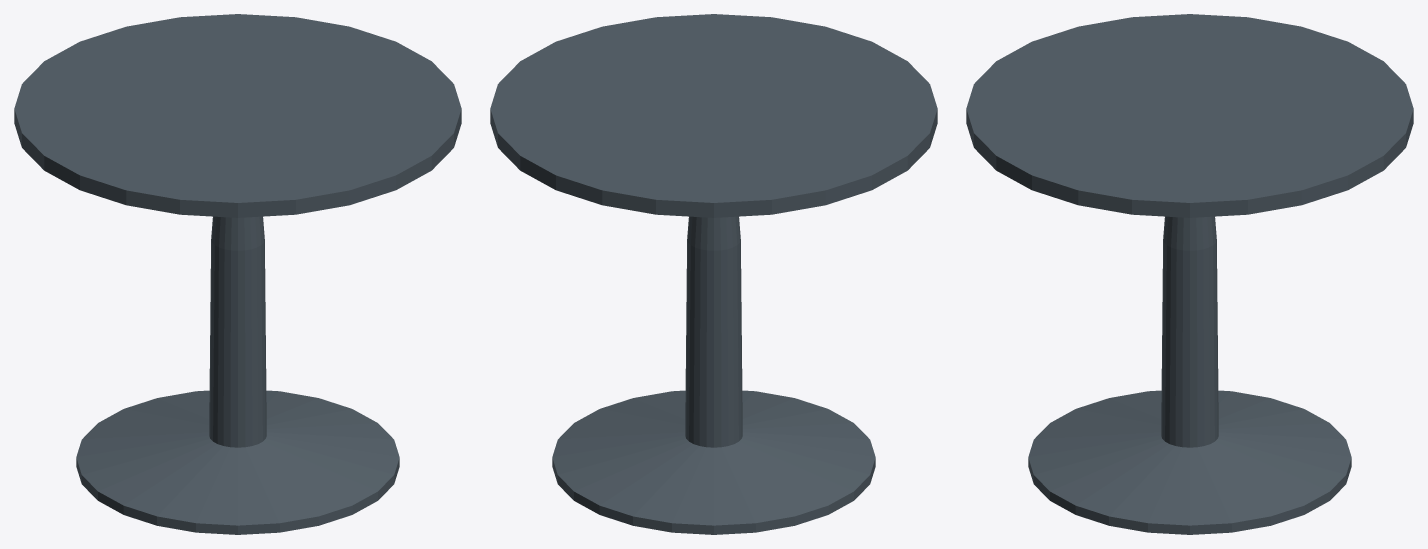
The model's file is table.fbx.
3 views of the same model, side by side, from view 1: azimuth 30°, elevation 25°; view 2: azimuth 150°, elevation 25°; view 3: azimuth 270°, elevation 25° (orthographic).
Visible parts, largest first — view 1: Cylinder; view 2: Cylinder; view 3: Cylinder.
Part boxes in pixels (x1=…): Cylinder: x1=14, y1=14, x2=461, y2=534; Cylinder: x1=490, y1=14, x2=937, y2=534; Cylinder: x1=966, y1=14, x2=1413, y2=534.
Size of the model in its own units: 166 by 147 by 166.
